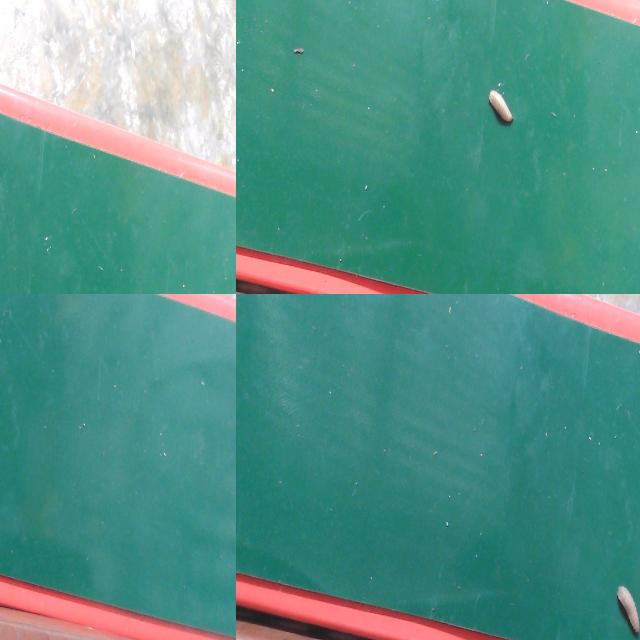Maggot: (617, 587, 640, 638), (489, 90, 515, 126)
